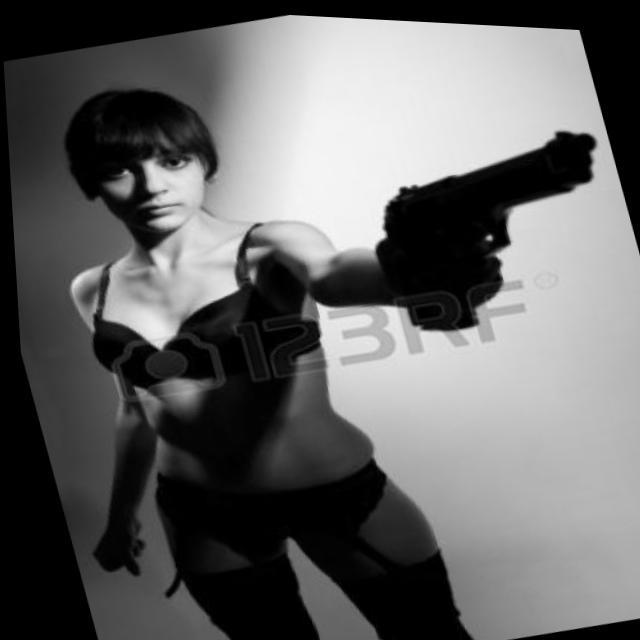weapon: (334, 98, 640, 364)
